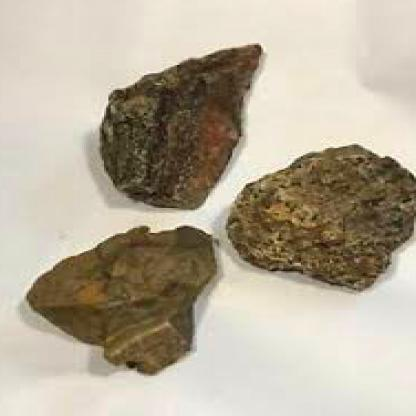Metamorphic_Quartize: (64, 32, 270, 211), (230, 138, 415, 308), (16, 223, 212, 376)
